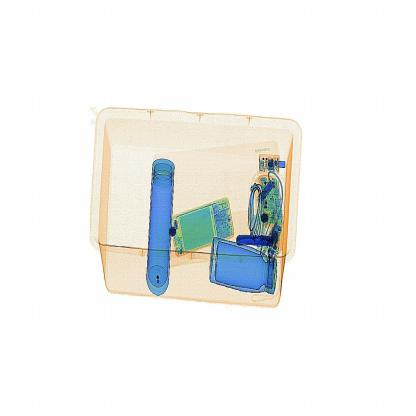knife: (236, 225, 284, 256)
